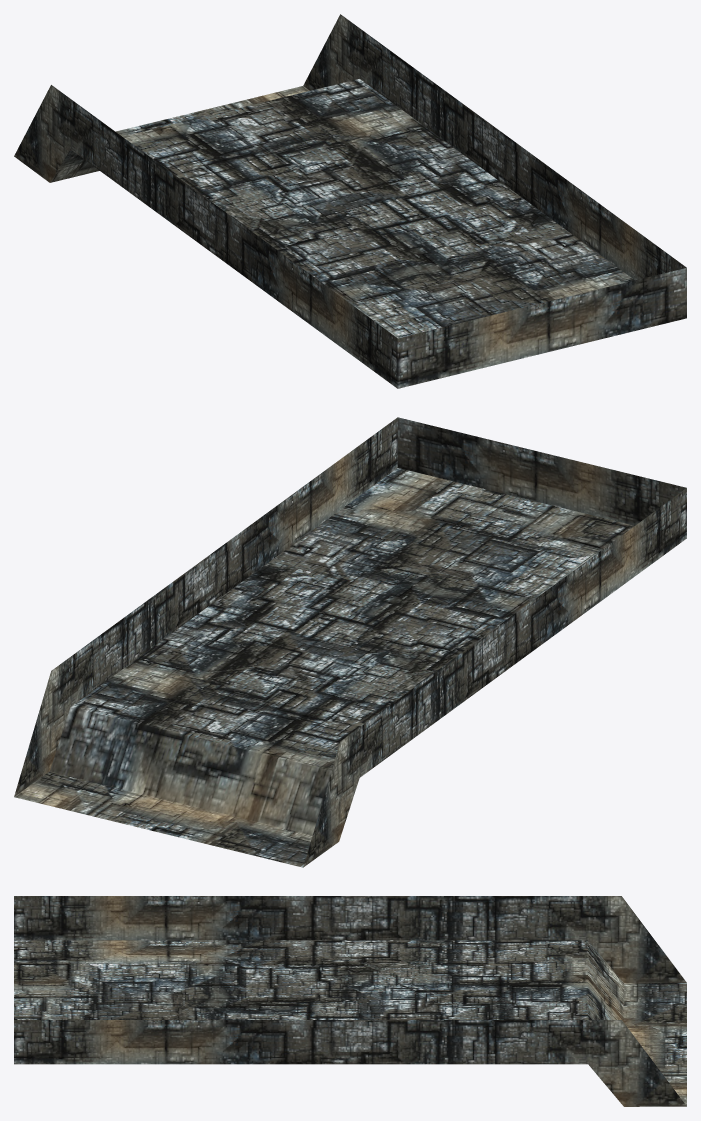
The model's file is block_2.FBX.
3 views of the same model, one above another, from view 1: azimuth 30°, elevation 25°; view 2: azimuth 150°, elevation 25°; view 3: azimuth 270°, elevation 25° (orthographic). The views are drawn at different scales.
Visible parts, largest first — view 1: Box004; view 2: Box004; view 3: Box004.
Part boxes in pixels (x1,y1,x2,y2): Box004: (14,14,686,388); Box004: (14,417,686,867); Box004: (14,896,686,1106).
Bounding box in the file's own units: 177 × 58.12 × 407.
